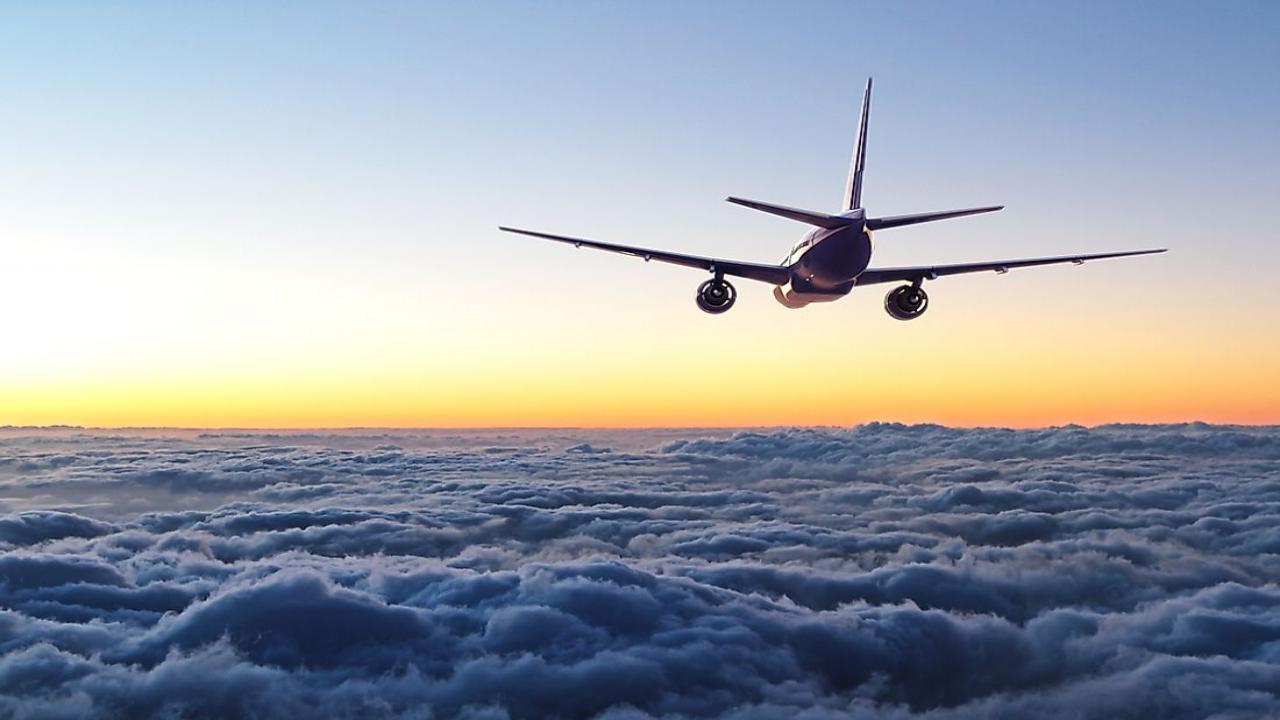Airplane: (480, 65, 1180, 327)
